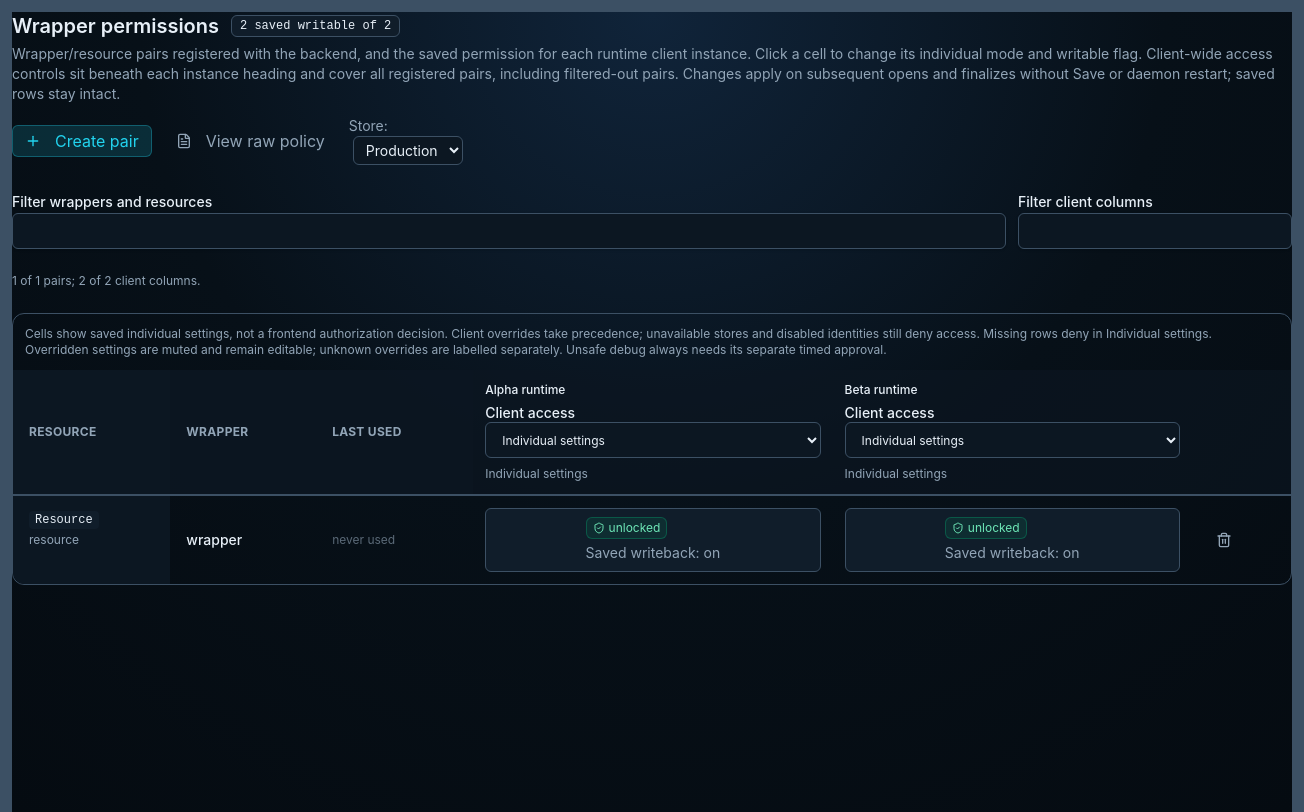
Test: instance controls in permission columns › retains an in-flight owner when filtering away a column before its response is lost
Expected: the button with test id "wrappers-cell-wrapper-resource-Alpha" is shown, left=485, top=508, right=821, bottom=572
Step 1. Select "Lock all" in the dropdown labelled "Client access" below "Alpha runtime" → {"x": 653, "y": 440}, box left=485, top=422, right=821, bottom=458
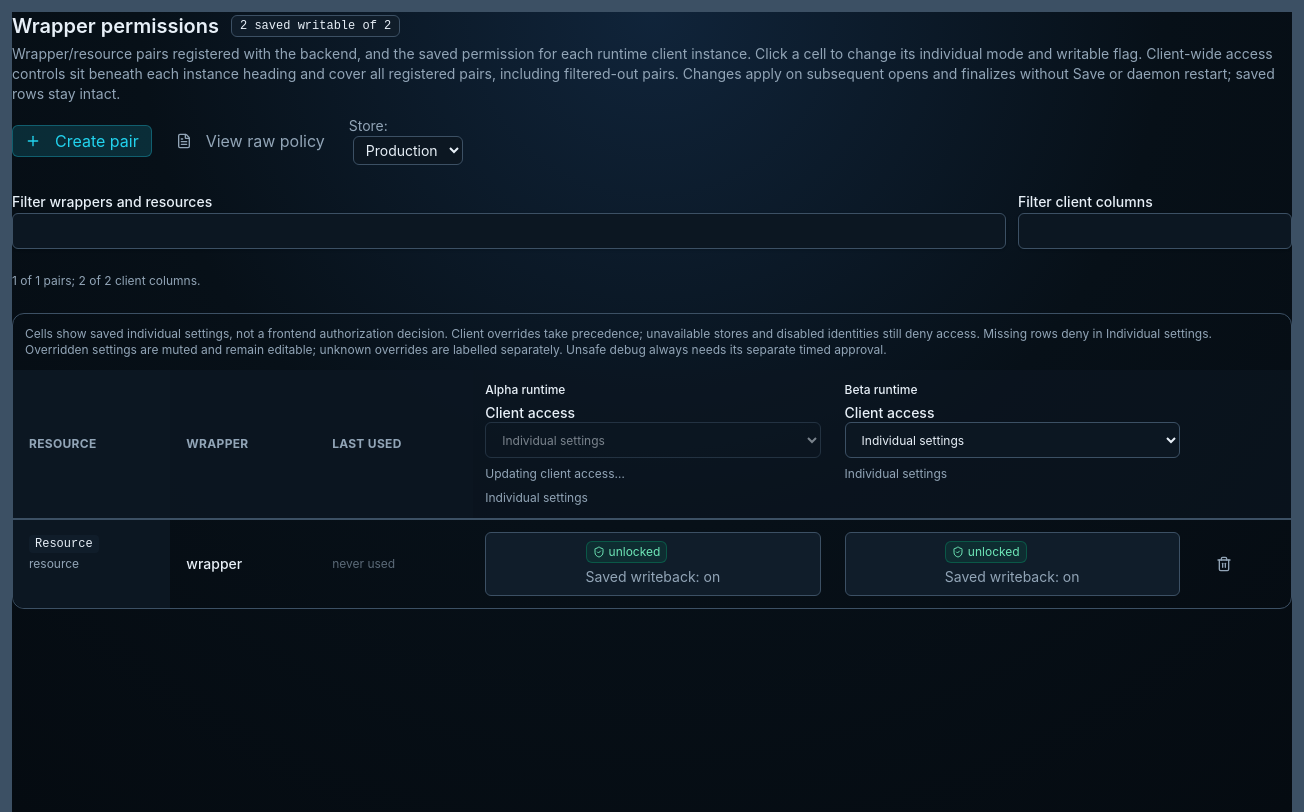
Step 2. Type "Beta" into the search field labelled "Filter client columns" → {"x": 1155, "y": 231}, box left=1018, top=213, right=1292, bottom=249
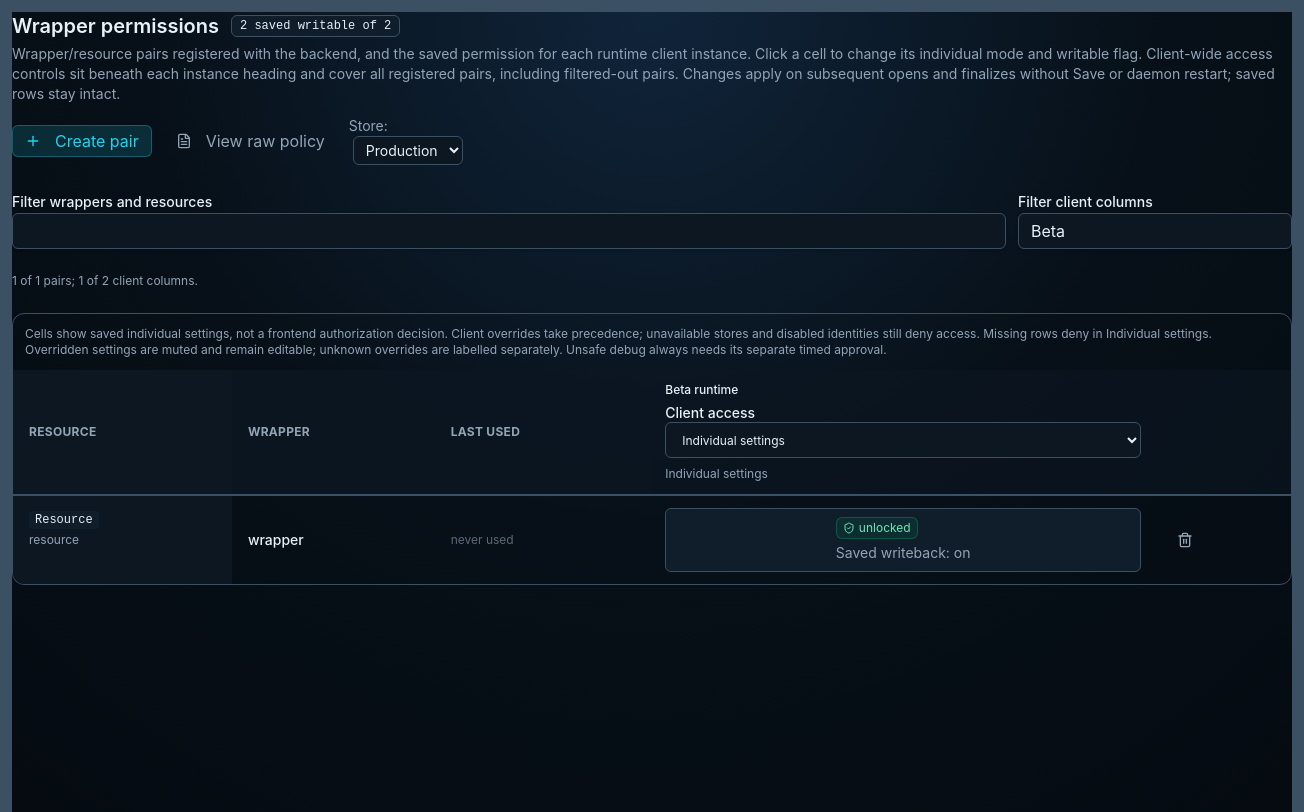
Step 3. Clear the search field labelled "Filter client columns" → {"x": 1155, "y": 231}, box left=1018, top=213, right=1292, bottom=249
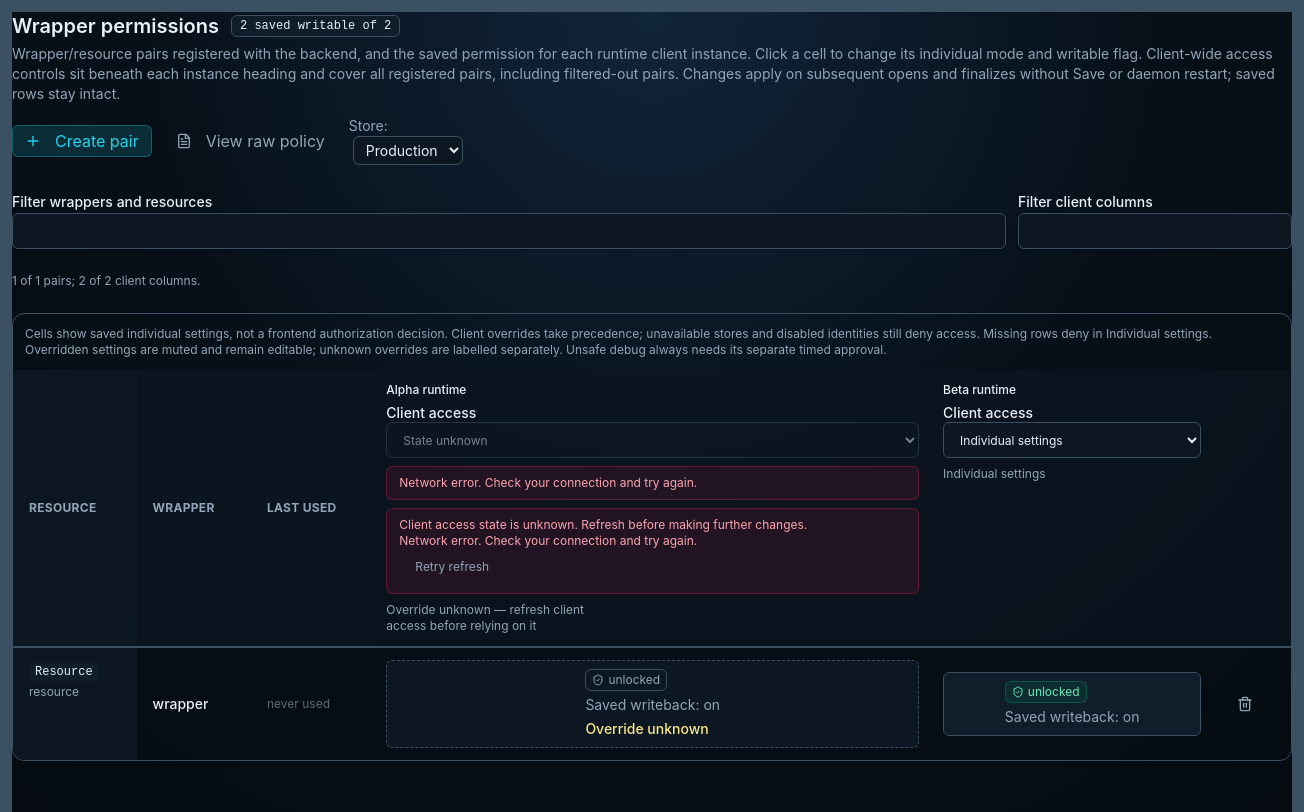
Result: the button with test id "wrappers-cell-wrapper-resource-Alpha" shows "Override unknown" at left=386, top=660, right=919, bottom=748
